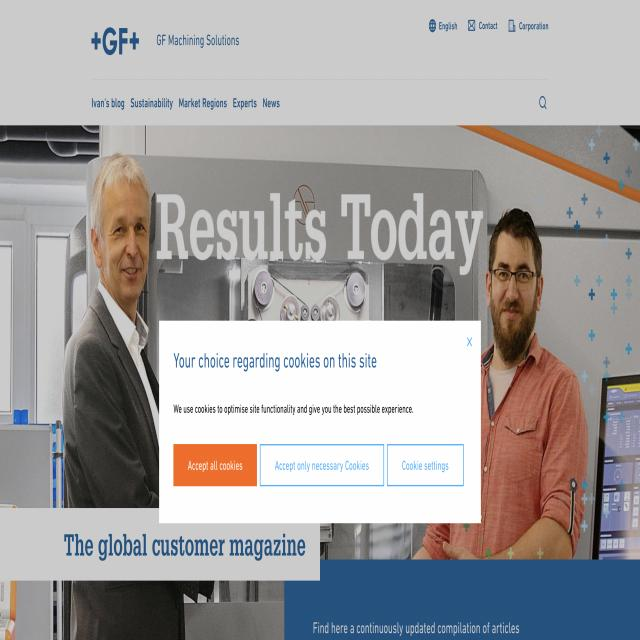Logo: (84, 14, 144, 74)
Navigation: (89, 82, 306, 122)
